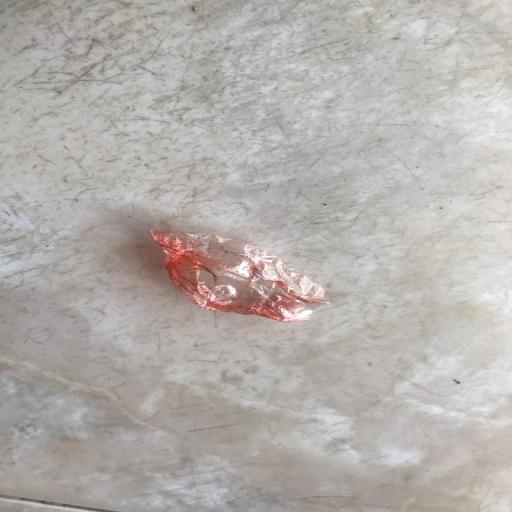waste: (140, 214, 342, 339)
